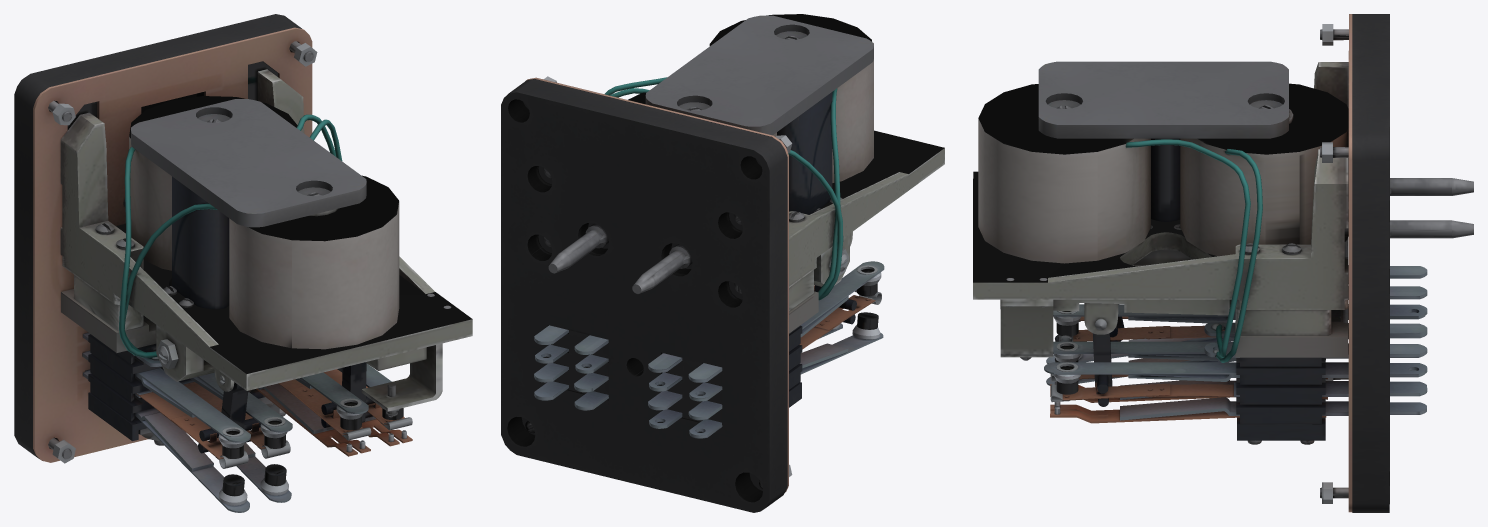
The model's file is kmsh_A3_B-V.fbx.
The picture shows the model from 3 angles, left to right: view 1: azimuth 30°, elevation 25°; view 2: azimuth 150°, elevation 25°; view 3: azimuth 270°, elevation 25°; orthographic projection. The views are drawn at different scales.
Visible parts, largest first — view 1: kmsh, kont_L, kont_R, pimp_L, pimp_R, mandula_R; view 2: kmsh, kont_L; view 3: kmsh, mandula_R, kont_R, kont_L, pimp_R.
Part boxes in pixels (box(x1,y1,x2,y2)): kmsh: box(14, 14, 472, 512); kont_L: box(136, 382, 290, 468); kont_R: box(278, 369, 412, 440); pimp_L: box(198, 382, 260, 453); pimp_R: box(321, 362, 374, 427); mandula_R: box(365, 347, 426, 370); kmsh: box(501, 14, 944, 512); kont_L: box(799, 285, 881, 349); kmsh: box(973, 14, 1473, 512); mandula_R: box(1000, 265, 1231, 334); kont_R: box(1050, 374, 1327, 402); kont_L: box(1059, 316, 1224, 341); pimp_R: box(1092, 333, 1112, 406).
Bounding box in the file's own units: 0.0696 × 0.0898 × 0.1079.
